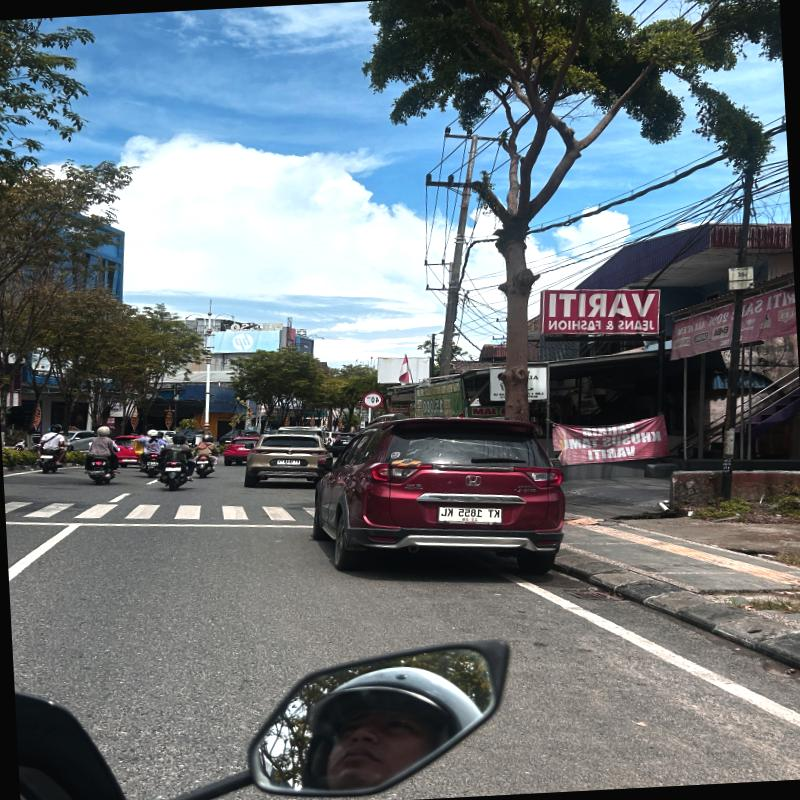license plate on a car: (440, 506, 502, 523), (277, 459, 300, 465)
